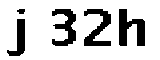2: (81, 8, 114, 49)
3: (44, 6, 76, 48)
h: (116, 6, 151, 48)
j: (3, 8, 31, 60)
